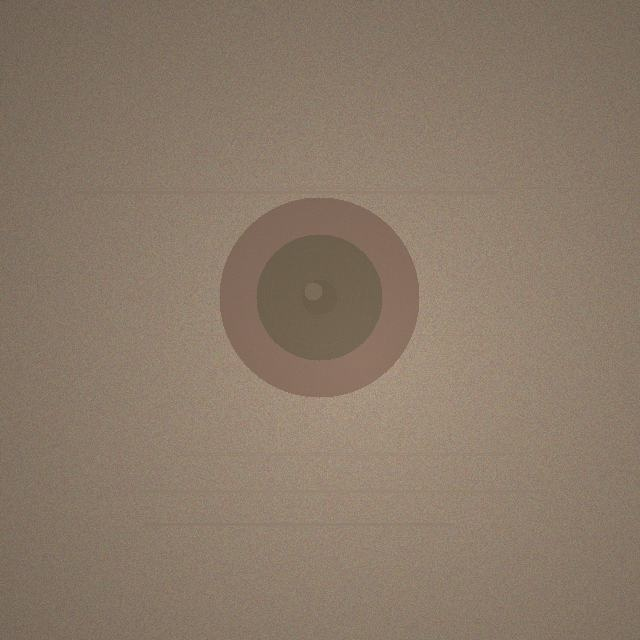good: (219, 197, 419, 397)
